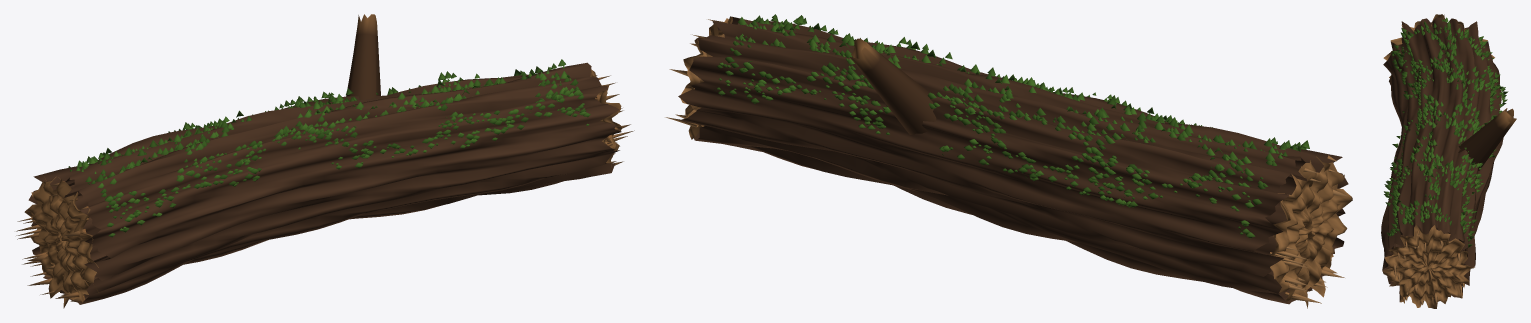
Rendered from mossy-fallen-log.glb.
The picture shows the model from 3 angles, left to right: view 1: azimuth 30°, elevation 25°; view 2: azimuth 150°, elevation 25°; view 3: azimuth 270°, elevation 25°; orthographic projection. The views are drawn at different scales.
Visible parts, largest first — view 1: Deep_Furrowed_Bark, Moss_Cushions, Splintered_End_0, Snapped_Branch, Torn_Wood_Fibres, Splintered_End_1; view 2: Deep_Furrowed_Bark, Moss_Cushions, Splintered_End_0, Snapped_Branch, Torn_Wood_Fibres, Splintered_End_1; view 3: Deep_Furrowed_Bark, Moss_Cushions, Splintered_End_1, Snapped_Branch, Torn_Wood_Fibres, Splintered_End_0.
Boxes of the visible parts, bbox=[...] form: Deep_Furrowed_Bark: bbox=[28, 62, 621, 304]; Moss_Cushions: bbox=[68, 59, 590, 237]; Splintered_End_0: bbox=[24, 175, 98, 308]; Snapped_Branch: bbox=[346, 14, 380, 100]; Torn_Wood_Fibres: bbox=[16, 75, 634, 302]; Splintered_End_1: bbox=[590, 69, 621, 167]; Deep_Furrowed_Bark: bbox=[678, 16, 1348, 304]; Moss_Cushions: bbox=[714, 14, 1309, 238]; Splintered_End_0: bbox=[1267, 156, 1352, 308]; Snapped_Branch: bbox=[850, 38, 936, 134]; Torn_Wood_Fibres: bbox=[665, 19, 1347, 303]; Splintered_End_1: bbox=[680, 16, 732, 139]; Deep_Furrowed_Bark: bbox=[1381, 17, 1503, 301]; Moss_Cushions: bbox=[1384, 17, 1508, 247]; Splintered_End_1: bbox=[1382, 225, 1474, 308]; Snapped_Branch: bbox=[1458, 108, 1516, 170]; Torn_Wood_Fibres: bbox=[1393, 14, 1464, 304]; Splintered_End_0: bbox=[1383, 14, 1494, 77].
Bounding box in the file's own units: 1.26 × 0.3649 × 0.3212.
